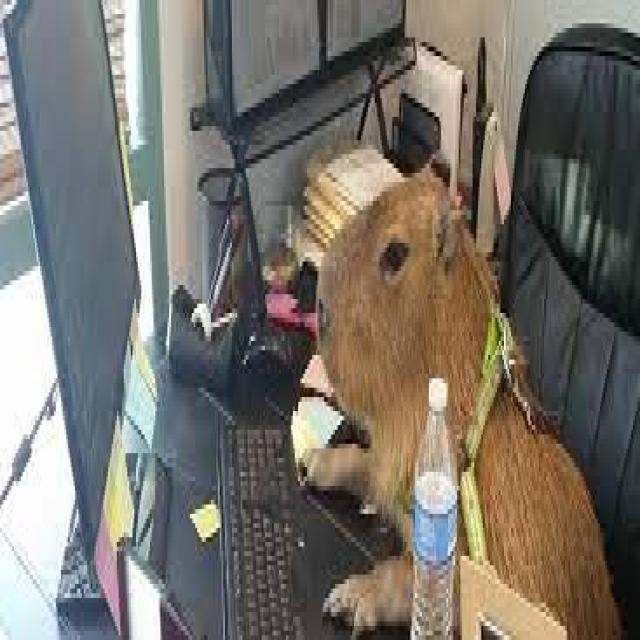capy: (297, 157, 622, 640)
